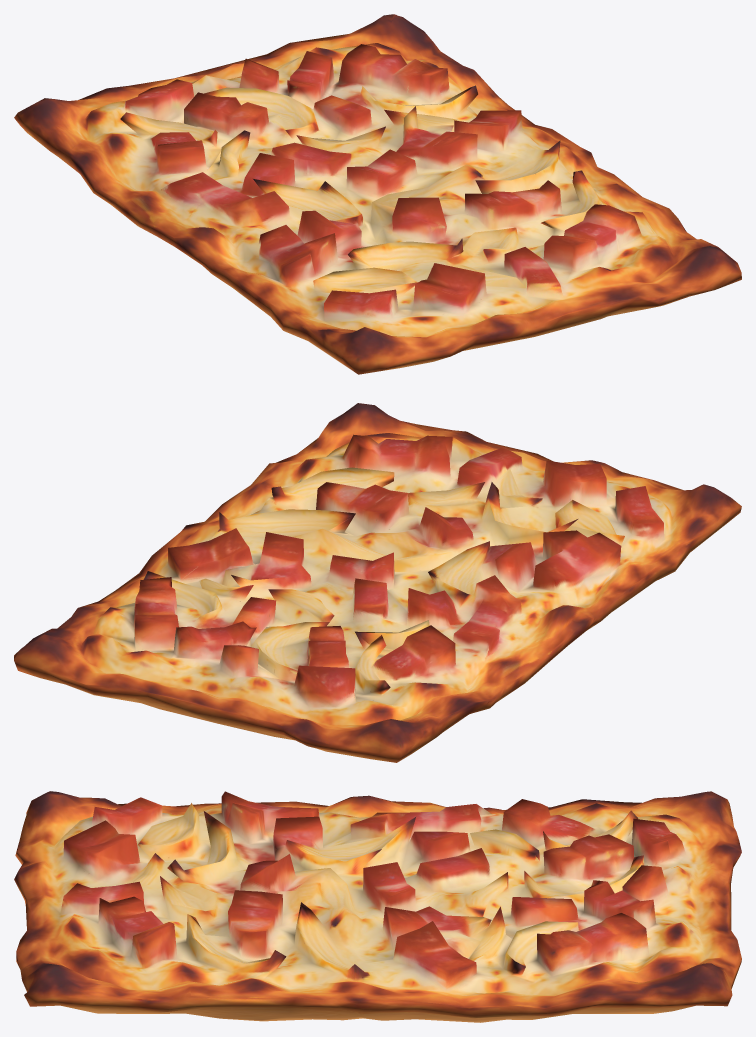
Rendered from flamm.glb.
The picture shows the model from 3 angles, top to bottom: view 1: azimuth 30°, elevation 25°; view 2: azimuth 150°, elevation 25°; view 3: azimuth 270°, elevation 25°; orthographic projection. The views are drawn at different scales.
Visible parts, largest first — view 1: tripo_node_e881bcec-b341-4e66-8f31-070e243874b9; view 2: tripo_node_e881bcec-b341-4e66-8f31-070e243874b9; view 3: tripo_node_e881bcec-b341-4e66-8f31-070e243874b9.
Boxes of the visible parts, x1=… form: tripo_node_e881bcec-b341-4e66-8f31-070e243874b9: x1=14, y1=14, x2=741, y2=374; tripo_node_e881bcec-b341-4e66-8f31-070e243874b9: x1=14, y1=403, x2=741, y2=762; tripo_node_e881bcec-b341-4e66-8f31-070e243874b9: x1=14, y1=791, x2=741, y2=1022.
Size of the model in its own units: 0.6591 by 0.1211 by 1.
Materials: 1 (1 with a texture image).
